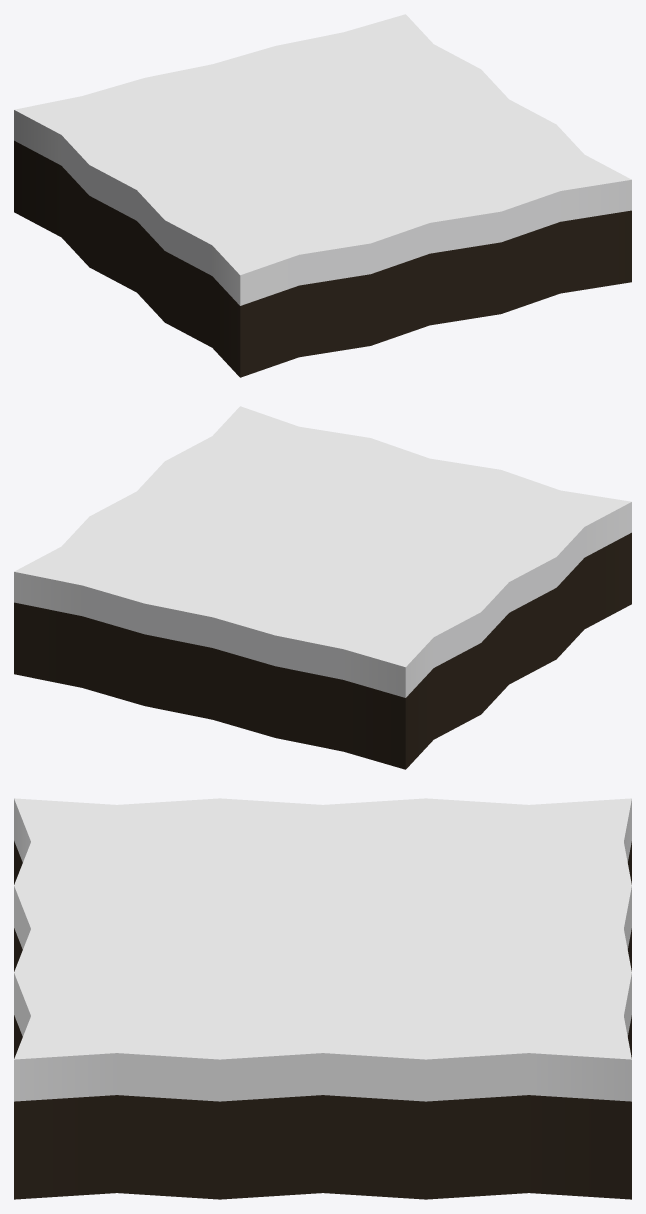
The model's file is jaggeredTile-13a_col.fbx.
The picture shows the model from 3 angles, top to bottom: view 1: azimuth 30°, elevation 25°; view 2: azimuth 150°, elevation 25°; view 3: azimuth 270°, elevation 25°; orthographic projection. The views are drawn at different scales.
Parts seen in each view (by area): view 1: jaggeredTile-13a.col; view 2: jaggeredTile-13a.col; view 3: jaggeredTile-13a.col.
Part boxes in pixels (left/top/right/bottom): jaggeredTile-13a.col: left=14, top=14, right=631, bottom=377; jaggeredTile-13a.col: left=14, top=406, right=631, bottom=769; jaggeredTile-13a.col: left=14, top=798, right=631, bottom=1199.
Size of the model in its own units: 2 by 0.5 by 2.
Materials: 1 (1 with a texture image).
